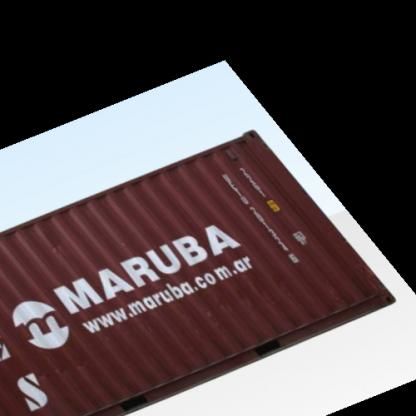Damage: (184, 285, 249, 330), (22, 352, 90, 379), (45, 230, 64, 258)
